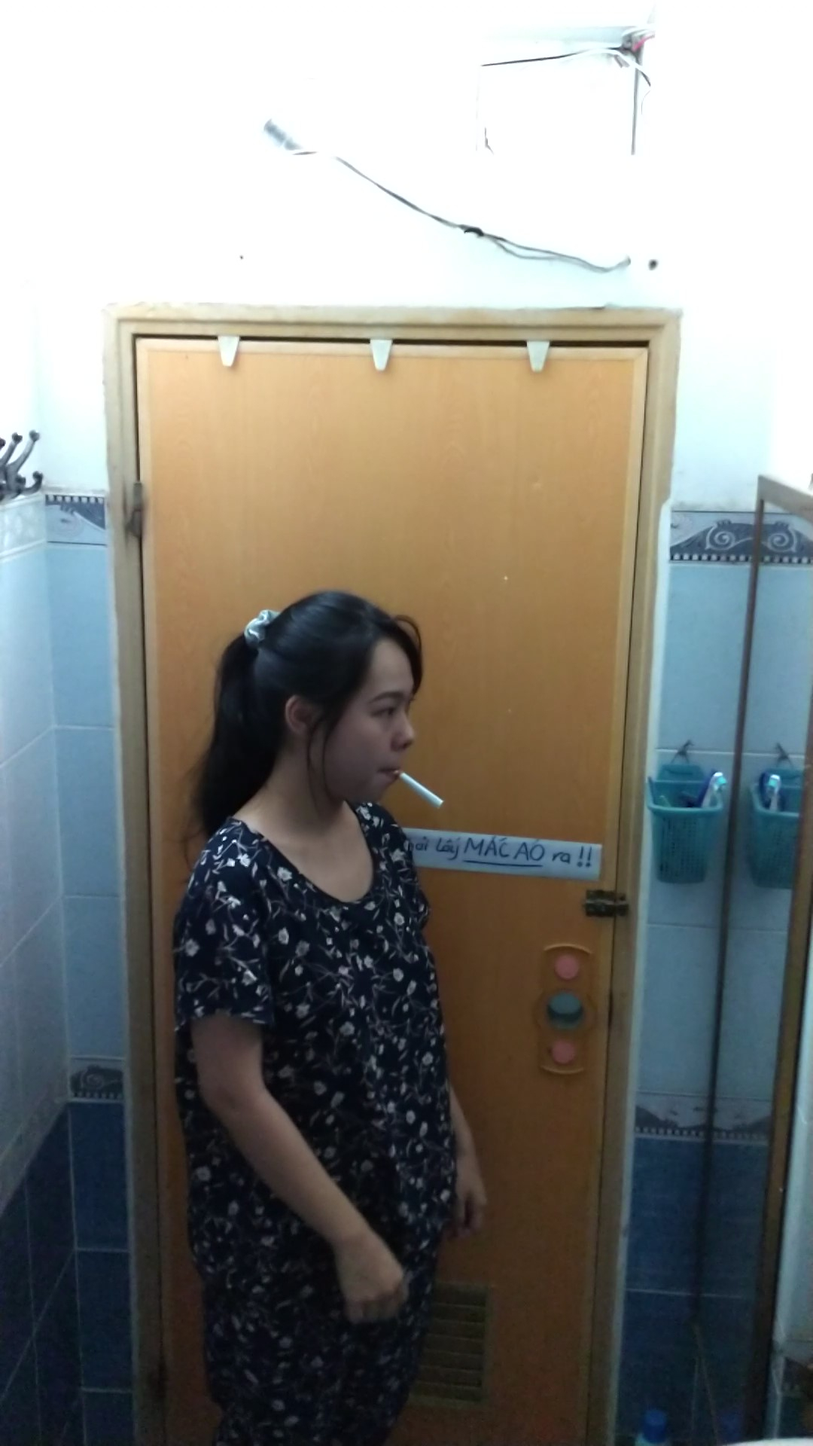cigarette: (392, 768, 449, 813)
person: (166, 582, 477, 1446)
